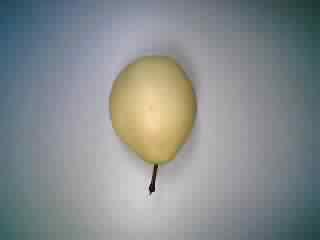pear: (99, 52, 208, 198)
